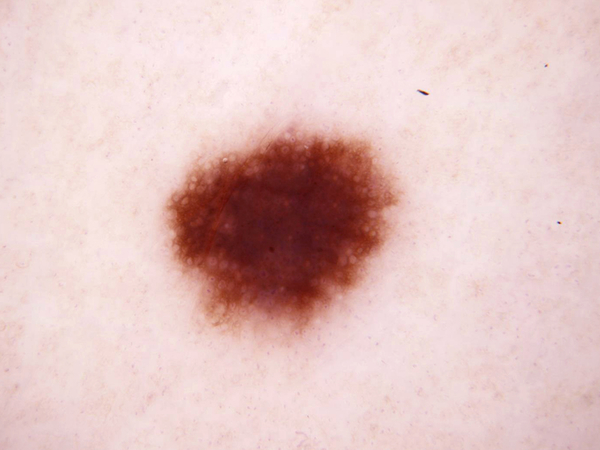Detected Lesion: (159, 125, 404, 339)
